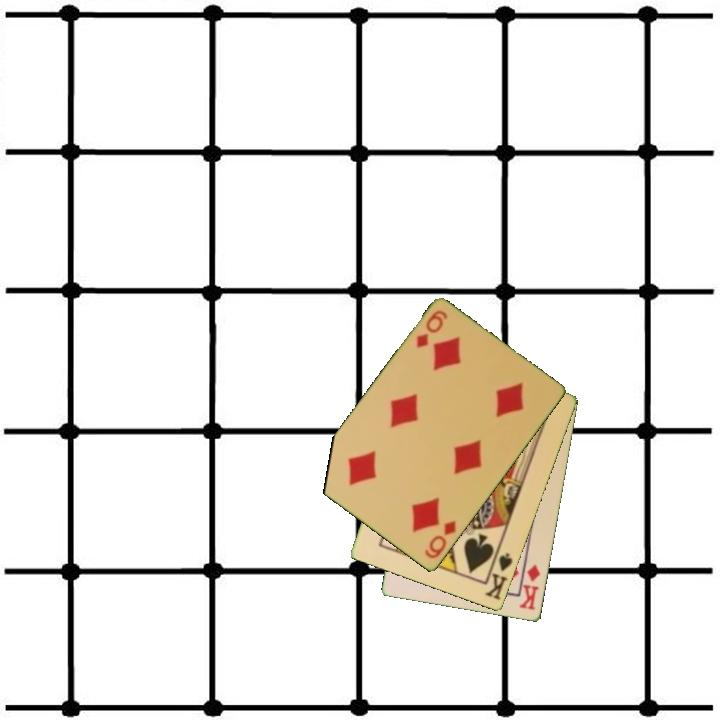6d: (421, 517, 459, 562), (413, 307, 451, 352)
Kd: (516, 561, 543, 613)
Ks: (481, 549, 516, 603)
